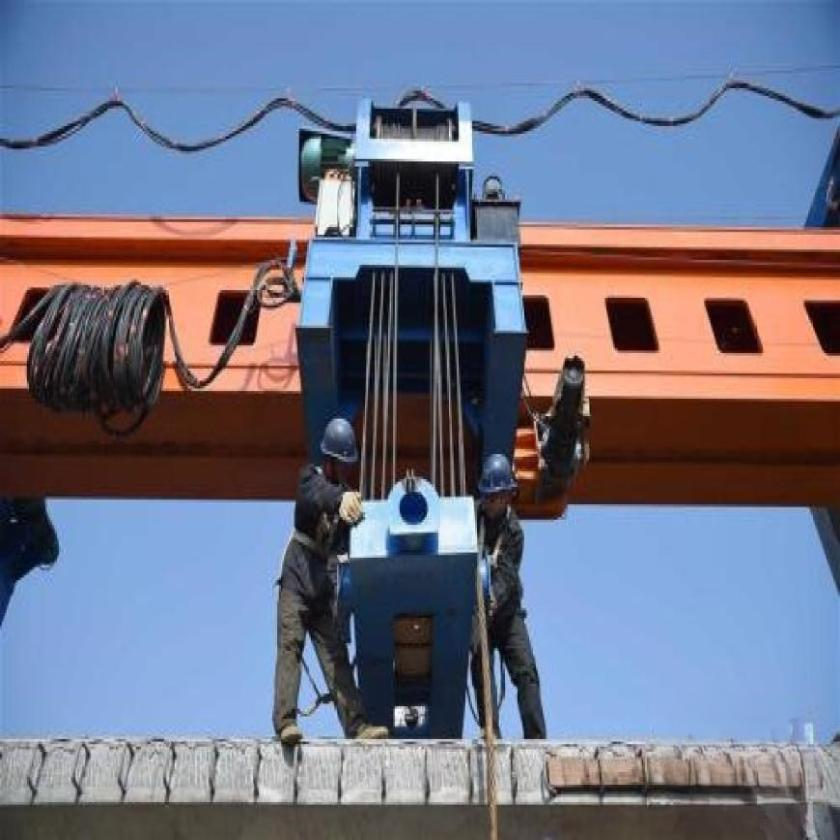Con_casco: (468, 439, 519, 530), (316, 399, 356, 484)
